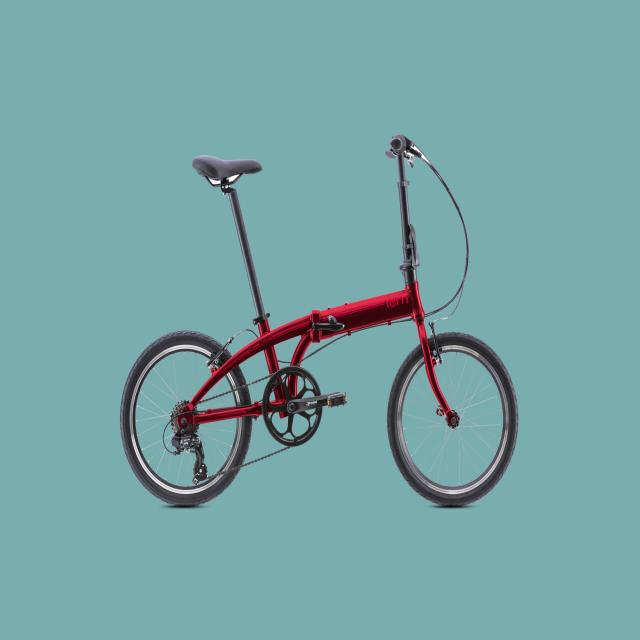folding-bike: (117, 132, 519, 510)
